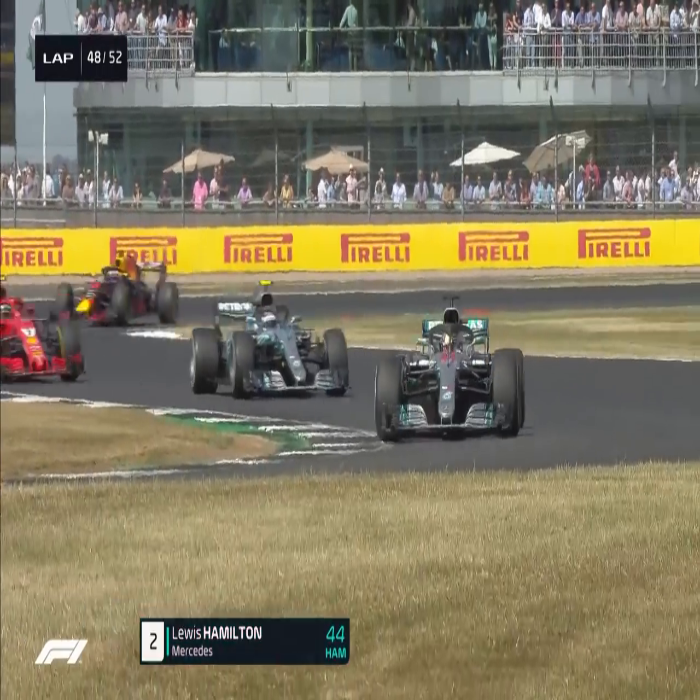f1_car: (369, 302, 540, 444), (186, 285, 360, 408), (51, 251, 181, 331)
